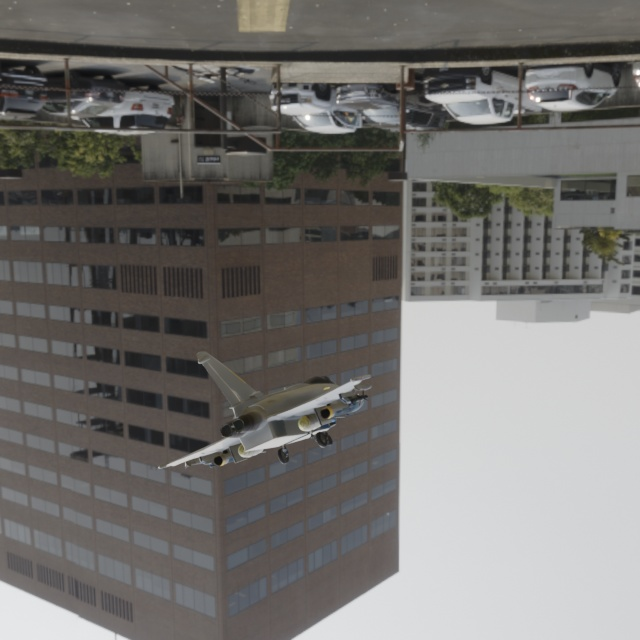eurofighter_typhoon_3d: (99, 298, 454, 522)
